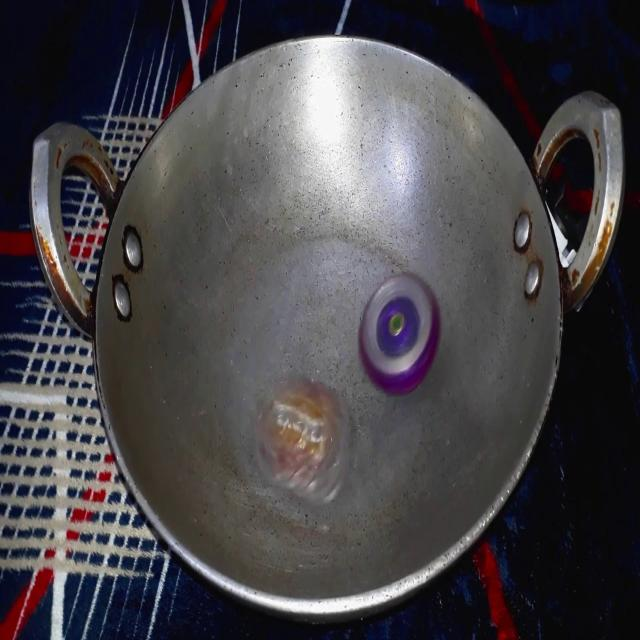beyblade: (250, 369, 364, 520), (355, 263, 446, 408)
